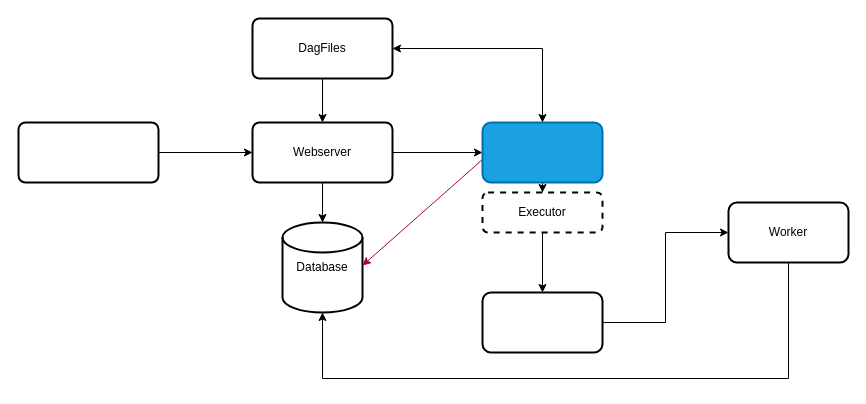
The diagram is 866 pixels wide and 404 high, and some of its shapes have lost their labels. Here are the shapes that lost their labels. From the top down, the box of each, then its label:
(17, 121, 159, 183): User Interface
(481, 121, 603, 183): Scheduler
(481, 291, 603, 353): Queue
